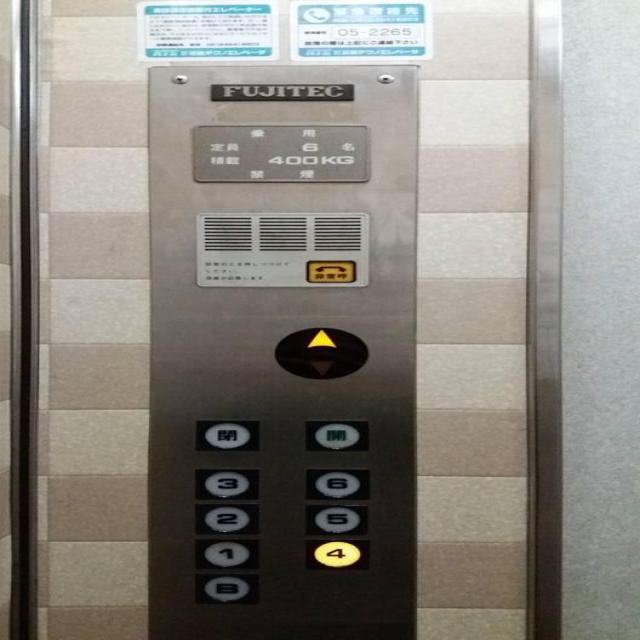1: (191, 536, 262, 570)
2: (191, 501, 262, 536)
3: (191, 466, 262, 501)
4: (302, 535, 371, 571)
5: (302, 500, 371, 534)
6: (302, 467, 371, 500)
B: (191, 571, 262, 604)
call: (303, 258, 356, 282)
led: (270, 324, 371, 378)
text: (190, 418, 262, 452), (302, 418, 370, 453)
